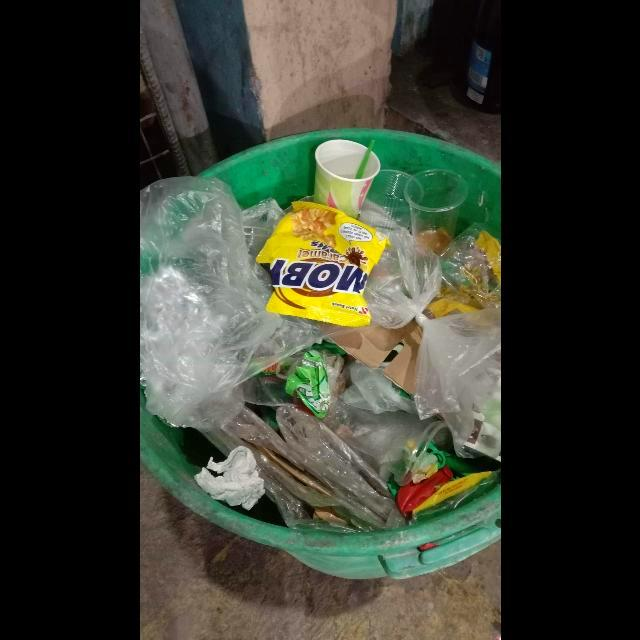cardboard: (320, 318, 422, 396)
food_wrapper: (255, 202, 392, 328), (411, 468, 501, 526), (284, 350, 330, 419)
paper: (313, 139, 380, 219), (193, 446, 265, 511)
plastic_bag: (139, 177, 328, 437), (362, 232, 501, 456), (218, 406, 405, 532)
plastic_container: (403, 169, 468, 252), (358, 170, 423, 236)
